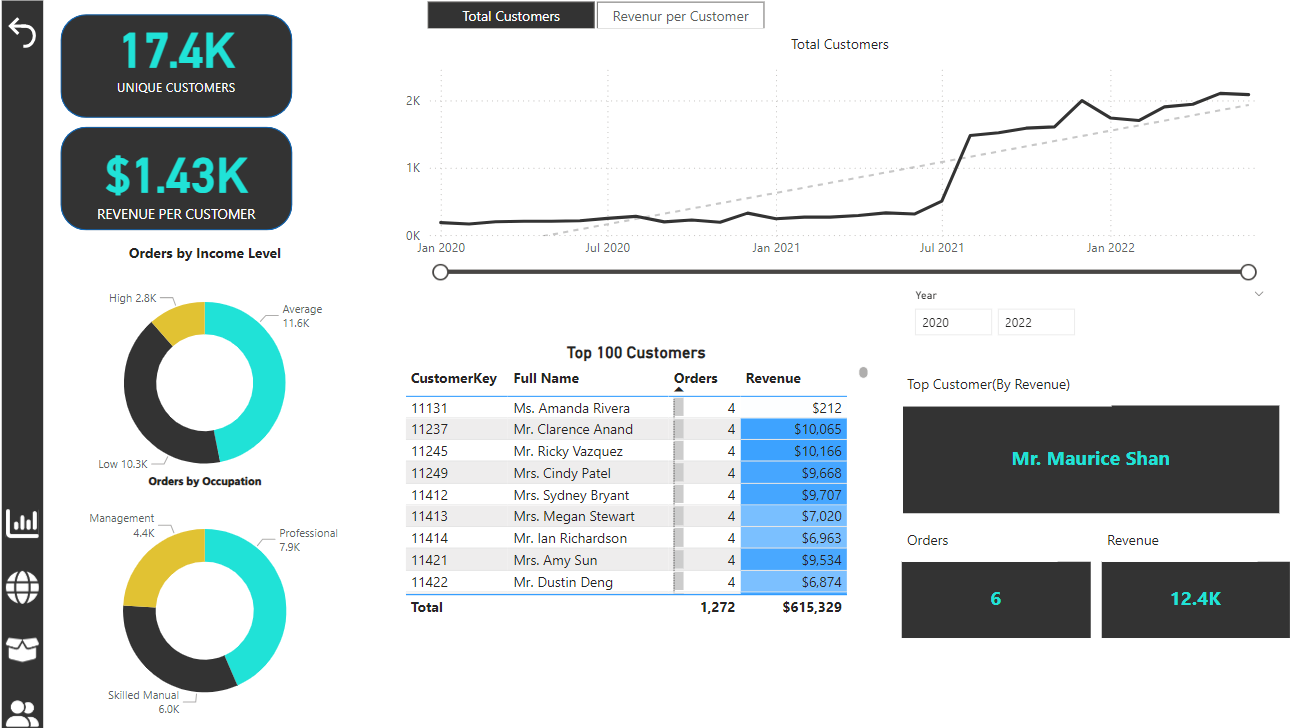

Layout of this report page (visuals, bound fields, positions):
{"tool":"powerbi","page":{"name":"Customer Detail","canvas":[1280,720],"ordinal":3},"visuals":[{"type":"shape","box":[13.8,12.5,40,707.5],"z":0},{"type":"shape","box":[70,25,223.8,100],"z":1000},{"type":"shape","box":[70,133.8,223.8,100],"z":2000},{"type":"card","fields":{"Values":["Measure Table.Total Customers"]},"box":[70,1.2,223.8,123.8],"z":3000},{"type":"card","fields":{"Values":["Measure Table.Average Revenur per Customer"]},"box":[70,122.5,223.8,123.8],"z":4000},{"type":"lineChart","fields":{"Y":["Measure Table.Total Customers"],"Category":["Calendar Lookup.Date Hierarchy.Year","Calendar Lookup.Date Hierarchy.Start of Month","Calendar Lookup.Date Hierarchy.Start of Week","Calendar Lookup.Date Hierarchy.Date"]},"box":[398,44.6,847.8,240],"z":5000},{"type":"donutChart","title":"Orders by Income Level","fields":{"Category":["Customer Lookup.Income Level"],"Y":["Measure Table.Total Orders"]},"box":[70,246.2,278.8,252.5],"z":6000},{"type":"donutChart","title":"Orders by Occupation","fields":{"Y":["Measure Table.Total Orders"],"Category":["Customer Lookup.Occupation"]},"box":[70,467.5,278.8,252.5],"z":7000},{"type":"tableEx","title":"Top 100 Customers","fields":{"Values":["Customer Lookup.CustomerKey","Customer Lookup.Full Name","Measure Table.Total Orders","Measure Table.Total Revenue"]},"box":[397.5,342.5,457.5,268.8],"z":8000},{"type":"card","fields":{"Values":["Measure Table.Full Name (Customer Detail)"]},"box":[882.8,403.5,363,103.7],"z":9000},{"type":"textbox","box":[882.5,368.1,202.6,36.2],"z":10000},{"type":"card","fields":{"Values":["Measure Table.Total Orders (Customer Detail)"]},"box":[882.5,553.9,182.1,73.6],"z":11000},{"type":"card","fields":{"Values":["Measure Table.Total Revenue (Customer Detail)"]},"box":[1075,553.4,181.2,73.8],"z":12000},{"type":"textbox","box":[882.5,518.9,150.8,35],"z":13000},{"type":"textbox","box":[1075.5,518.9,150.8,35],"z":14000},{"type":"slicer","fields":{"Values":["Calendar Lookup.Year"]},"box":[882.5,285,362.5,81.2],"z":15000},{"type":"actionButton","box":[13.3,22.9,39.8,39.8],"z":16000},{"type":"actionButton","box":[13.9,496.9,39.8,39.8],"z":17000},{"type":"actionButton","box":[13.9,558,39.8,39.8],"z":18000},{"type":"actionButton","box":[13.9,680.2,39.8,39.8],"z":19000},{"type":"actionButton","box":[13.9,619.1,39.8,39.8],"z":20000},{"type":"slicer","fields":{"Values":["Customer Metric Selection.Customer Metric Selection"]},"box":[398,6,375.1,32.6],"z":21000}]}

Visuals, with their boxes on the page's 1280x720 design canvas (x1, y1, x2, y2). These are canvas units, not pixel positions in the 1314x728 screenshot, which may show the page scaled, cropped or inside an application window:
shape: pyautogui.locateOnScreen(14, 12, 54, 720)
shape: pyautogui.locateOnScreen(70, 25, 294, 125)
shape: pyautogui.locateOnScreen(70, 134, 294, 234)
card - Measure Table.Total Customers: pyautogui.locateOnScreen(70, 1, 294, 125)
card - Measure Table.Average Revenur per Customer: pyautogui.locateOnScreen(70, 122, 294, 246)
lineChart - Measure Table.Total Customers x Calendar Lookup.Date Hierarchy.Year: pyautogui.locateOnScreen(398, 45, 1246, 285)
"Orders by Income Level" donutChart: pyautogui.locateOnScreen(70, 246, 349, 499)
"Orders by Occupation" donutChart: pyautogui.locateOnScreen(70, 468, 349, 720)
"Top 100 Customers" tableEx: pyautogui.locateOnScreen(398, 342, 855, 611)
card - Measure Table.Full Name (Customer Detail): pyautogui.locateOnScreen(883, 404, 1246, 507)
textbox: pyautogui.locateOnScreen(882, 368, 1085, 404)
card - Measure Table.Total Orders (Customer Detail): pyautogui.locateOnScreen(882, 554, 1065, 628)
card - Measure Table.Total Revenue (Customer Detail): pyautogui.locateOnScreen(1075, 553, 1256, 627)
textbox: pyautogui.locateOnScreen(882, 519, 1033, 554)
textbox: pyautogui.locateOnScreen(1076, 519, 1226, 554)
slicer - Calendar Lookup.Year: pyautogui.locateOnScreen(882, 285, 1245, 366)
actionButton: pyautogui.locateOnScreen(13, 23, 53, 63)
actionButton: pyautogui.locateOnScreen(14, 497, 54, 537)
actionButton: pyautogui.locateOnScreen(14, 558, 54, 598)
actionButton: pyautogui.locateOnScreen(14, 680, 54, 720)
actionButton: pyautogui.locateOnScreen(14, 619, 54, 659)
slicer - Customer Metric Selection.Customer Metric Selection: pyautogui.locateOnScreen(398, 6, 773, 39)
